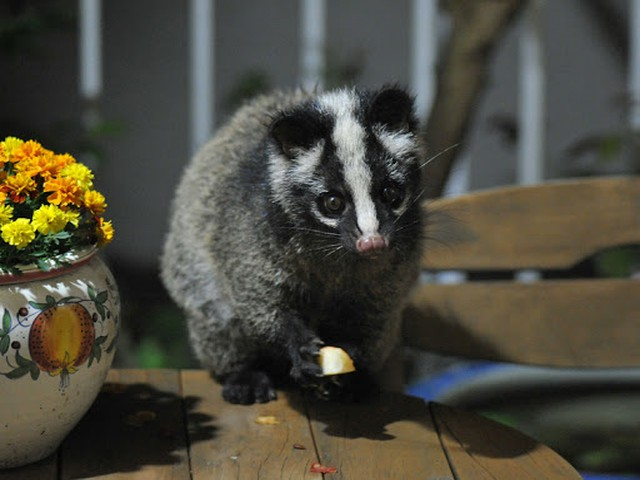civet: (157, 79, 436, 409)
